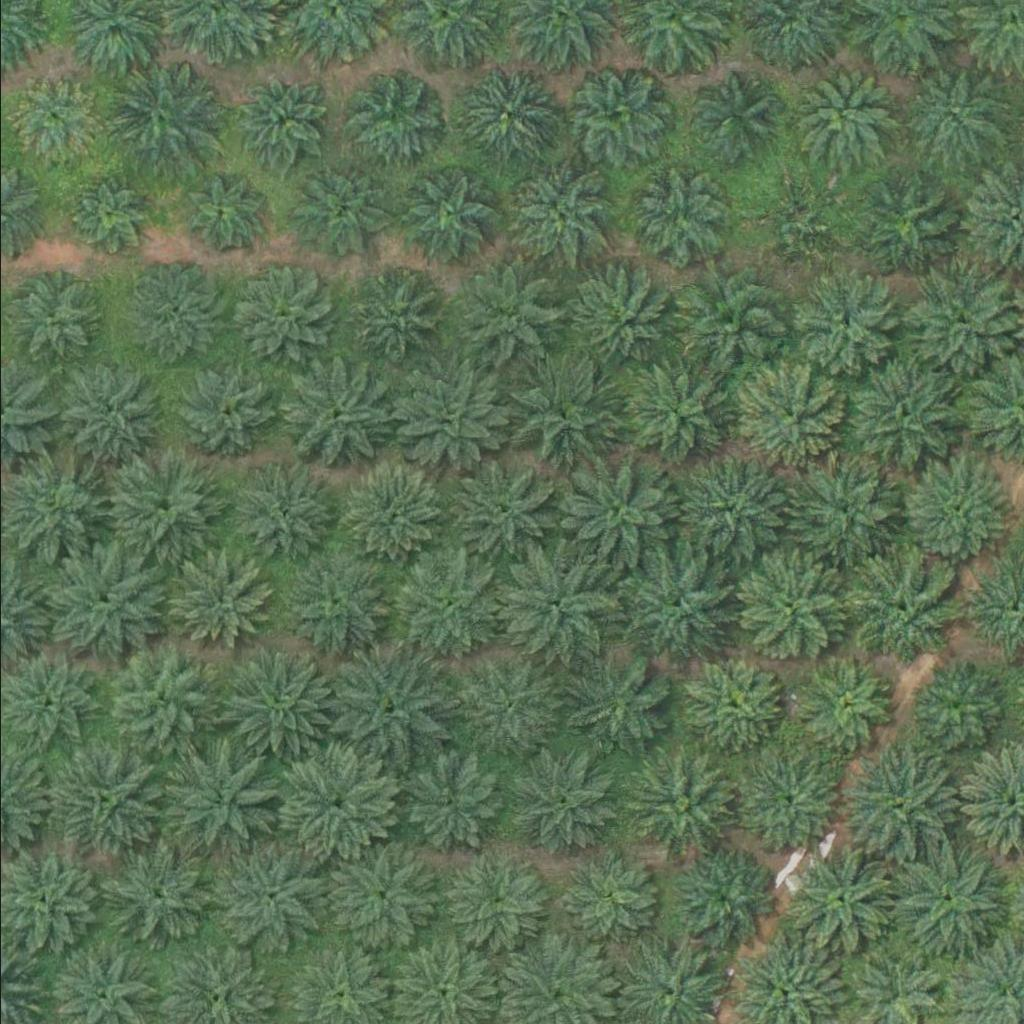Kelapa_Sawit: (897, 456, 1011, 569), (844, 554, 958, 667), (733, 551, 847, 664), (561, 652, 675, 765), (105, 641, 219, 754), (47, 746, 161, 859), (849, 166, 962, 279), (667, 264, 780, 377), (785, 452, 898, 565), (893, 844, 1006, 957), (788, 845, 901, 958), (279, 748, 392, 861), (167, 745, 280, 858), (449, 649, 562, 762), (330, 654, 443, 767), (218, 647, 331, 760), (618, 549, 731, 662), (496, 551, 609, 664), (394, 356, 507, 469), (278, 356, 391, 469), (166, 354, 279, 467), (53, 355, 166, 468), (626, 746, 740, 858), (502, 745, 616, 857), (905, 265, 1018, 377), (787, 266, 900, 378), (846, 361, 959, 473), (731, 362, 844, 474), (678, 459, 791, 571), (839, 746, 952, 858), (729, 744, 842, 856), (321, 843, 434, 955), (211, 847, 324, 959), (390, 552, 503, 664), (277, 550, 390, 662), (559, 457, 672, 569), (448, 454, 561, 566), (615, 357, 728, 469), (500, 360, 613, 472), (500, 162, 613, 274), (100, 64, 213, 176), (107, 447, 220, 559), (47, 549, 160, 661), (102, 841, 215, 953), (901, 60, 1002, 160), (781, 69, 882, 169), (684, 68, 785, 168), (908, 663, 1009, 763), (673, 847, 774, 947), (170, 553, 271, 653), (338, 461, 439, 561), (232, 466, 333, 566), (568, 264, 669, 364), (455, 261, 556, 361), (342, 263, 443, 363), (629, 171, 730, 271), (395, 164, 496, 264), (565, 66, 666, 166), (460, 61, 561, 161), (346, 67, 447, 167), (794, 661, 894, 761), (682, 657, 782, 757), (555, 848, 655, 948), (441, 853, 541, 953), (397, 756, 497, 856), (227, 264, 327, 364), (123, 264, 223, 364), (291, 162, 391, 262), (6, 73, 94, 161), (66, 174, 154, 262), (749, 187, 838, 274), (237, 75, 325, 162), (183, 174, 259, 249)
